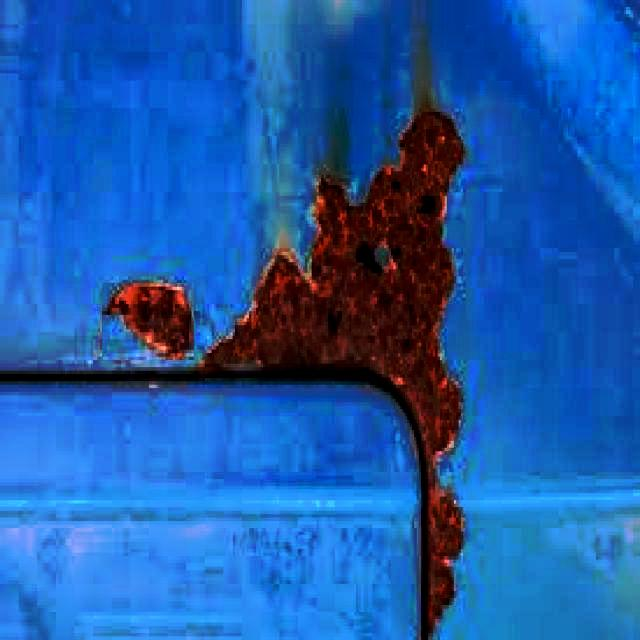Corrosion: (200, 104, 464, 638), (105, 284, 192, 359), (328, 312, 342, 335)
